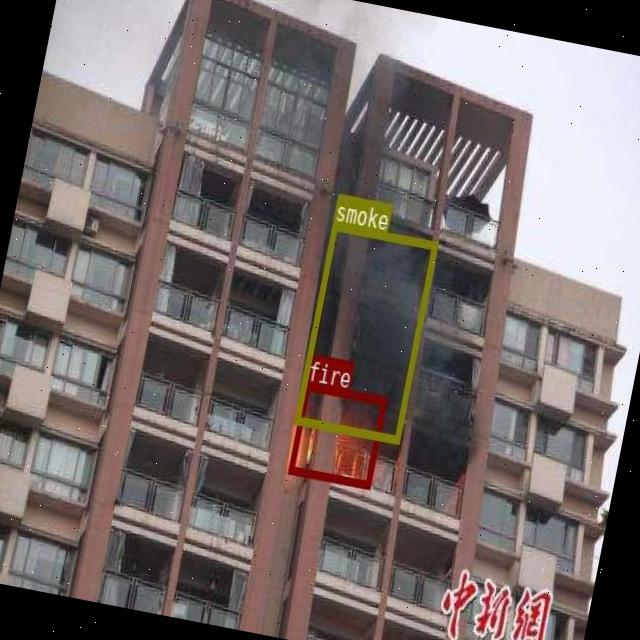fire: (288, 382, 388, 488)
smoke: (294, 220, 438, 442)
